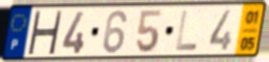4: (59, 9, 86, 56), (208, 8, 234, 52)
5: (135, 8, 164, 55)
6: (101, 8, 129, 55)
H: (25, 9, 64, 56)
L: (173, 9, 200, 53)
